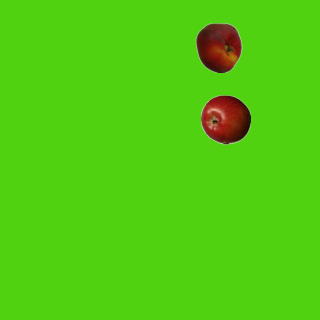Apple Braeburn: (200, 94, 250, 144)
Nectarine Flat: (193, 22, 243, 72)
